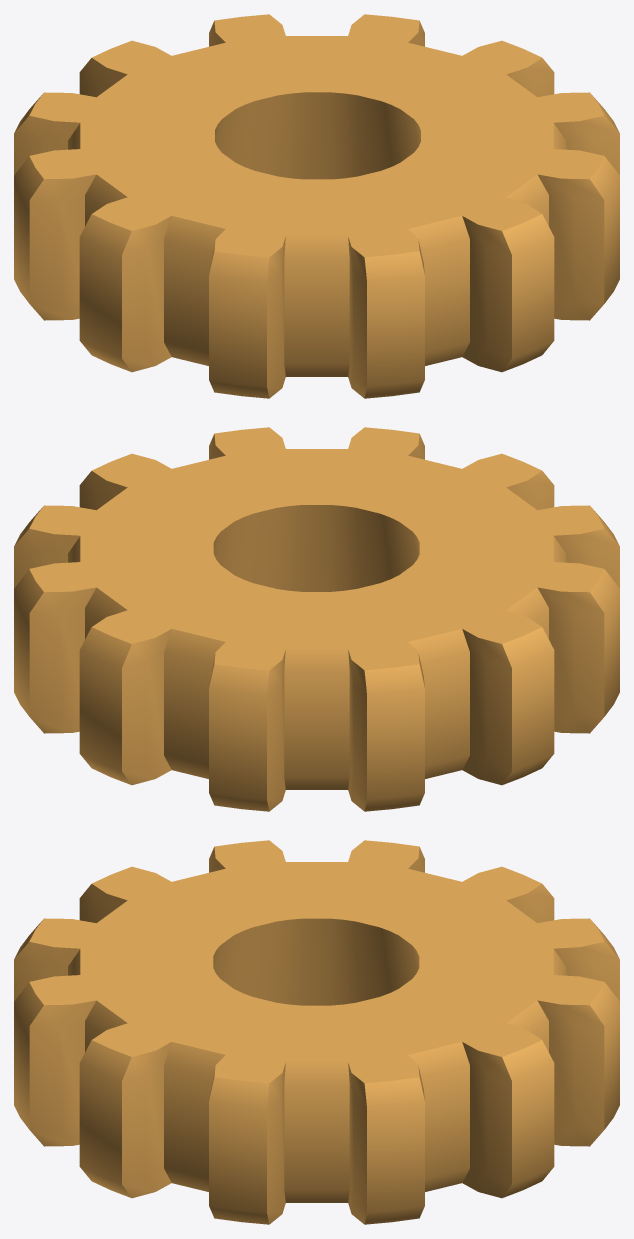
Rendered from Gear_12P_02.fbx.
3 renders of one model, top to bottom at view 1: azimuth 30°, elevation 25°; view 2: azimuth 150°, elevation 25°; view 3: azimuth 270°, elevation 25°, orthographic.
Parts seen in each view (by area): view 1: Gear_12P_02; view 2: Gear_12P_02; view 3: Gear_12P_02.
Part boxes in pixels (x1=…): Gear_12P_02: x1=14, y1=14, x2=619, y2=398; Gear_12P_02: x1=14, y1=427, x2=619, y2=811; Gear_12P_02: x1=14, y1=840, x2=619, y2=1224.
Bounding box in the file's own units: 389 × 100 × 389.
